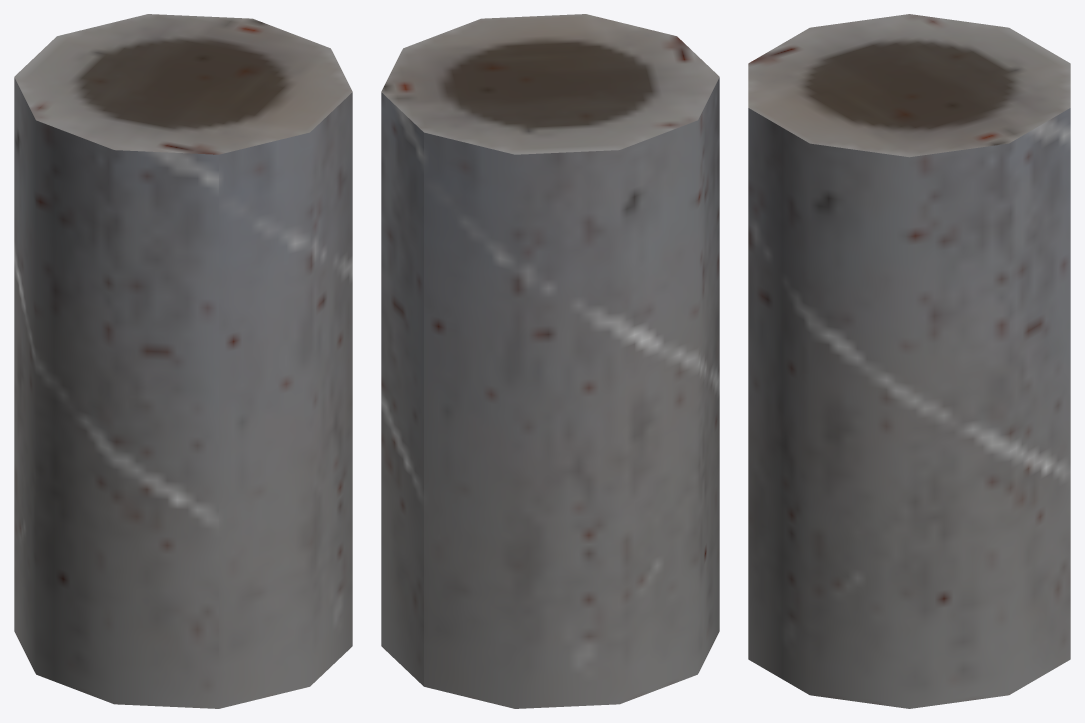
The model's file is SteelPipe_15a_snaps011.fbx.
3 renders of one model, left to right at view 1: azimuth 30°, elevation 25°; view 2: azimuth 150°, elevation 25°; view 3: azimuth 270°, elevation 25°, orthographic.
Parts seen in each view (by area): view 1: SteelPipe_15a_snaps011_LOD0; view 2: SteelPipe_15a_snaps011_LOD0; view 3: SteelPipe_15a_snaps011_LOD0.
Boxes of the visible parts, box(x1,y1,x2,y2) form: SteelPipe_15a_snaps011_LOD0: box(14, 14, 352, 708); SteelPipe_15a_snaps011_LOD0: box(381, 14, 719, 708); SteelPipe_15a_snaps011_LOD0: box(748, 14, 1070, 708).
Size of what is drawn, in the model's own units: 6.54 by 11.75 by 6.22.
